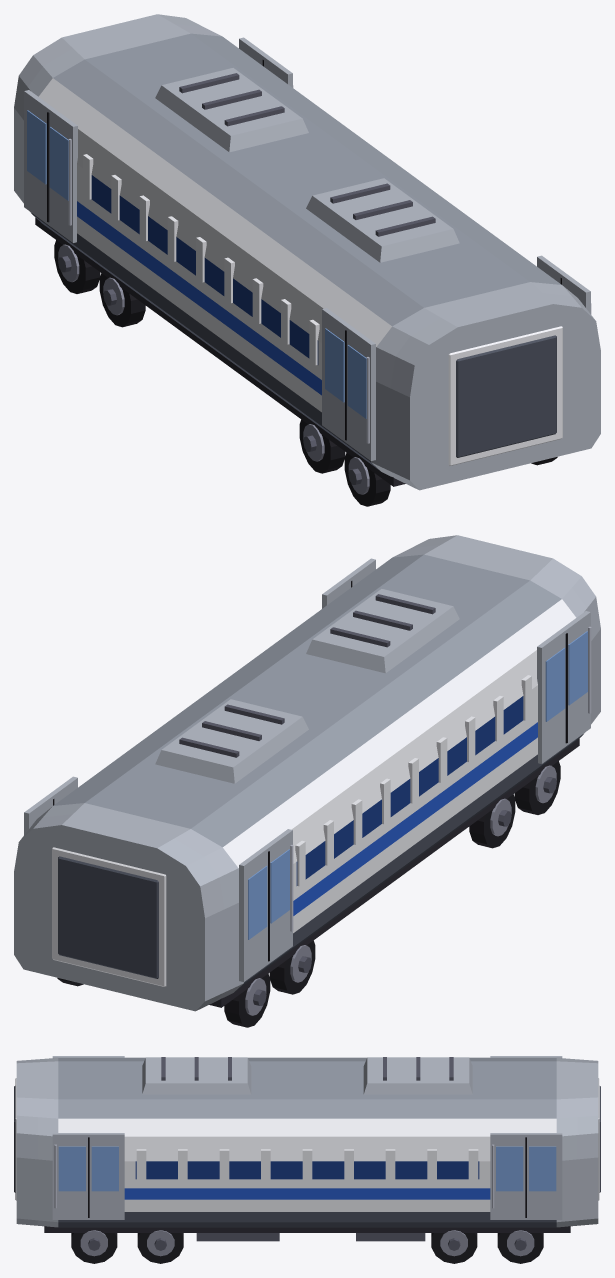
The model's file is tgv-wagon.glb.
3 views of the same model, one above another, from view 1: azimuth 30°, elevation 25°; view 2: azimuth 150°, elevation 25°; view 3: azimuth 270°, elevation 25° (orthographic). The views are drawn at different scales.
Parts seen in each view (by area): view 1: TgvWagon; view 2: TgvWagon; view 3: TgvWagon.
Part boxes in pixels (<box>): TgvWagon: <box>14,14,600,506</box>; TgvWagon: <box>14,535,600,1027</box>; TgvWagon: <box>14,1056,600,1263</box>.
Size of the model in its own units: 1.38 by 1.3 by 4.24.
1 material, 1 textured.
